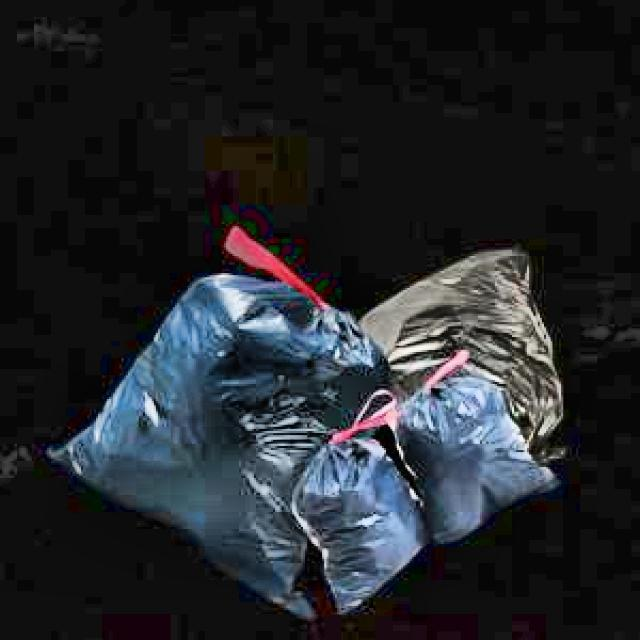Trashbag: (44, 263, 326, 627), (405, 378, 559, 547), (300, 428, 428, 619)
